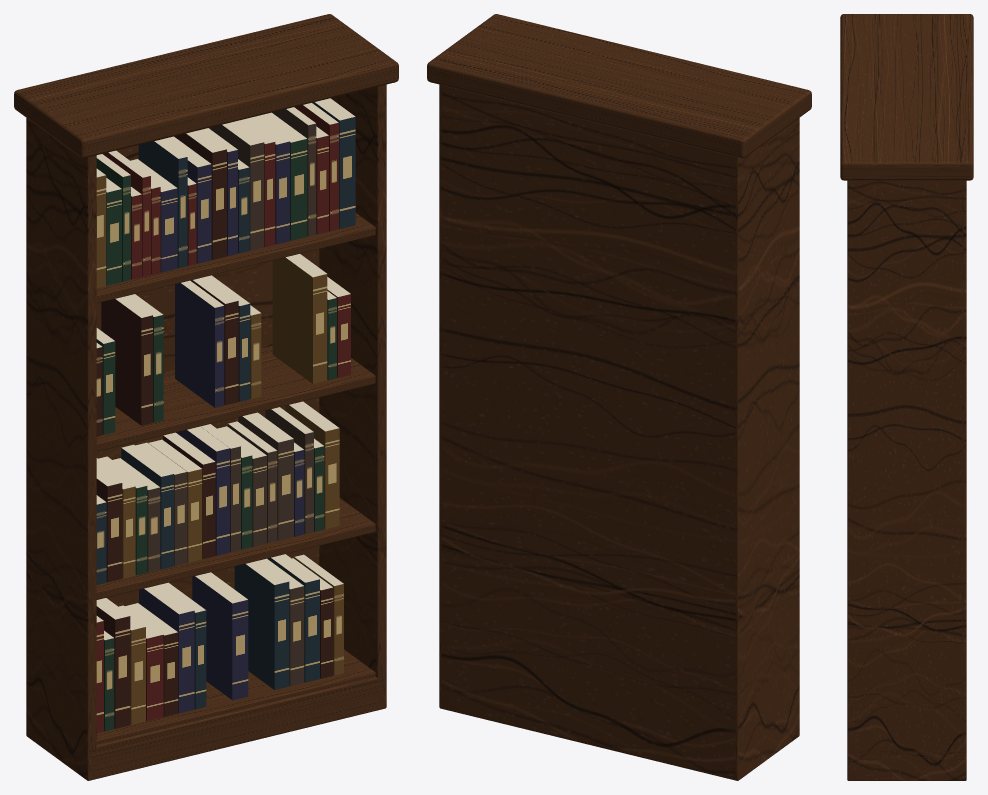
The model's file is estante-imbuia-livros.glb.
The picture shows the model from 3 angles, left to right: view 1: azimuth 30°, elevation 25°; view 2: azimuth 150°, elevation 25°; view 3: azimuth 270°, elevation 25°; orthographic projection. The views are drawn at different scales.
Parts seen in each view (by area): view 1: bookcase; view 2: bookcase; view 3: bookcase.
Part boxes in pixels (<box>): bookcase: <box>14,14,398,780</box>; bookcase: <box>427,14,811,780</box>; bookcase: <box>840,14,973,780</box>.
Size of the model in its own units: 1.01 by 1.96 by 0.38.
391 materials, 66 textured.
